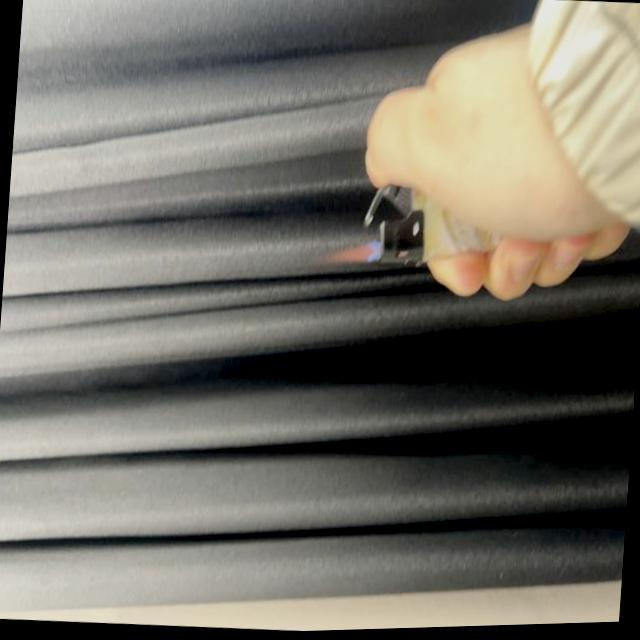helmet: (321, 240, 378, 269)
